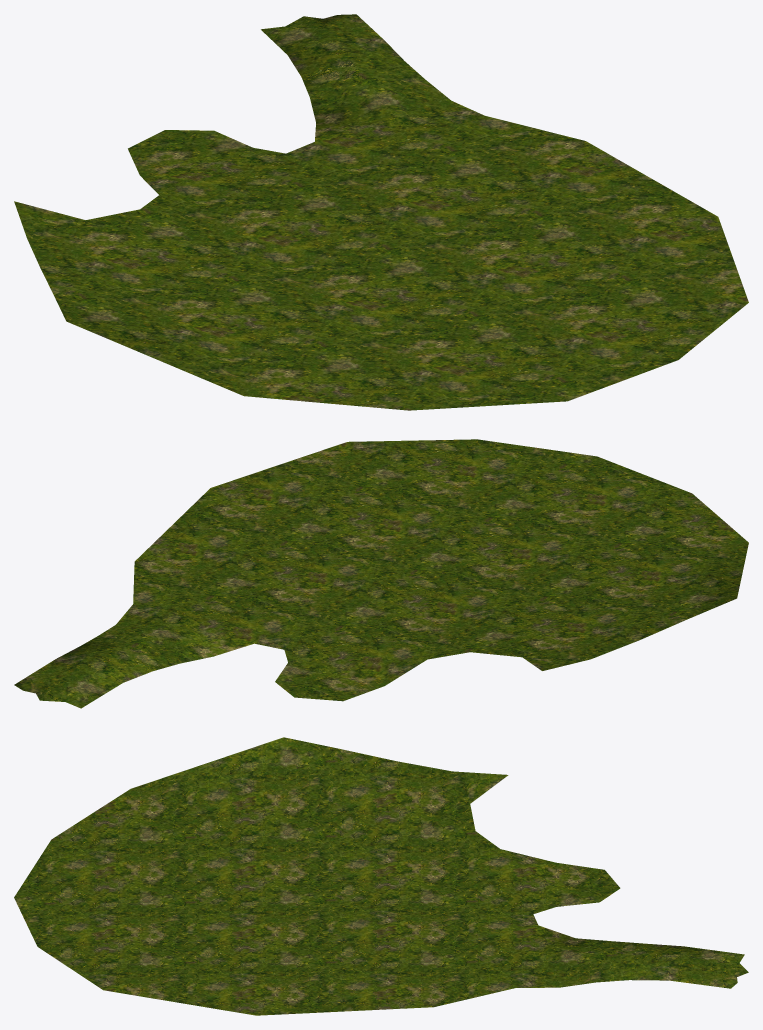
File: OVERHILL_A_01_OBJECT19.fbx
3 views of the same model, one above another, from view 1: azimuth 30°, elevation 25°; view 2: azimuth 150°, elevation 25°; view 3: azimuth 270°, elevation 25° (orthographic). The views are drawn at different scales.
Visible parts, largest first — view 1: OVERHILL_A_01_OBJECT19; view 2: OVERHILL_A_01_OBJECT19; view 3: OVERHILL_A_01_OBJECT19.
Part boxes in pixels (<box>): OVERHILL_A_01_OBJECT19: <box>14,14,748,410</box>; OVERHILL_A_01_OBJECT19: <box>14,439,748,708</box>; OVERHILL_A_01_OBJECT19: <box>14,737,748,1015</box>.
Size of the model in its own units: 83584 by 5147 by 104624.
Materials: 1 (1 with a texture image).
